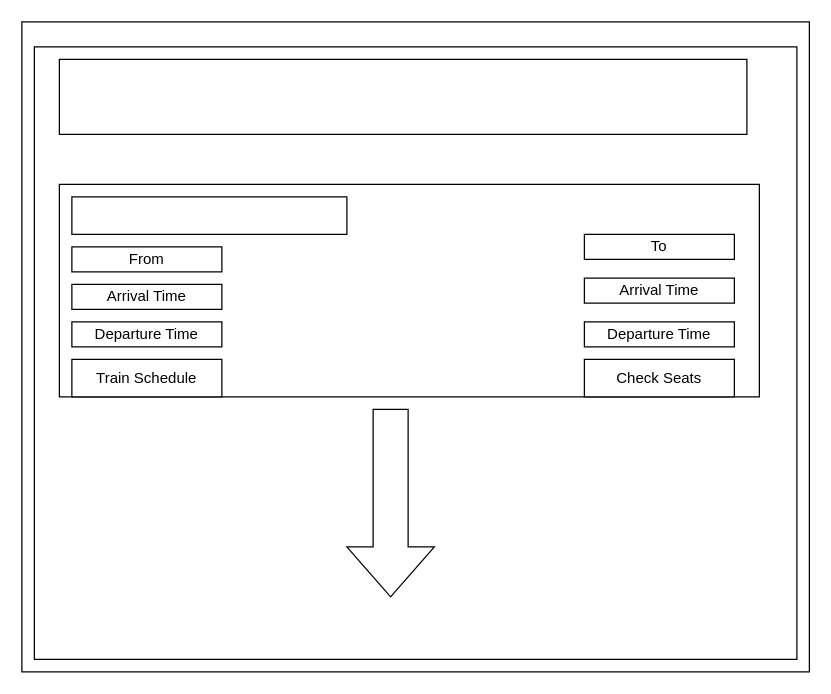
Some shapes in this 831 by 694 pixel diagram are drawn without their labels. Each missing label, with the box of its shape:
List: (346, 408, 434, 597)
Ticket Booking: (58, 58, 747, 134)
Train number - Train Name: (71, 196, 347, 234)
